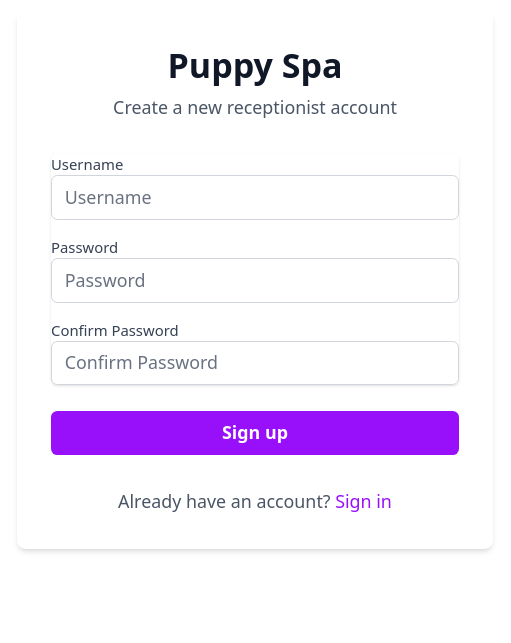
Test: SignupPage › should display error message on registration failure
The width and height of the screenshot is (511, 643).
Fill in the form
Type "existinguser" into the field labelled "Username" at (255, 198), box [51,175,459,220]
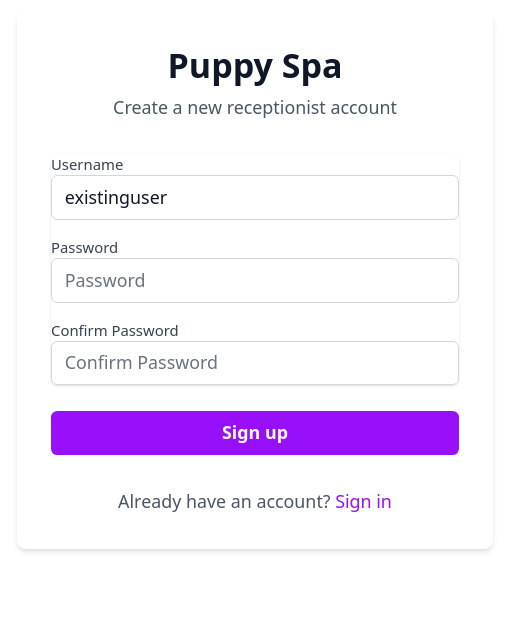
Type "password123" into the password field labelled "Password" at (255, 280), box [51,258,459,302]
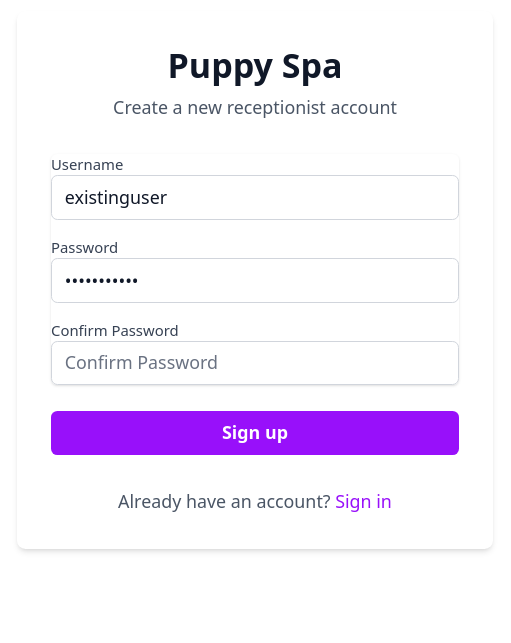
Type "password123" into the password field labelled "Confirm Password" at (255, 363), box [51,341,459,385]
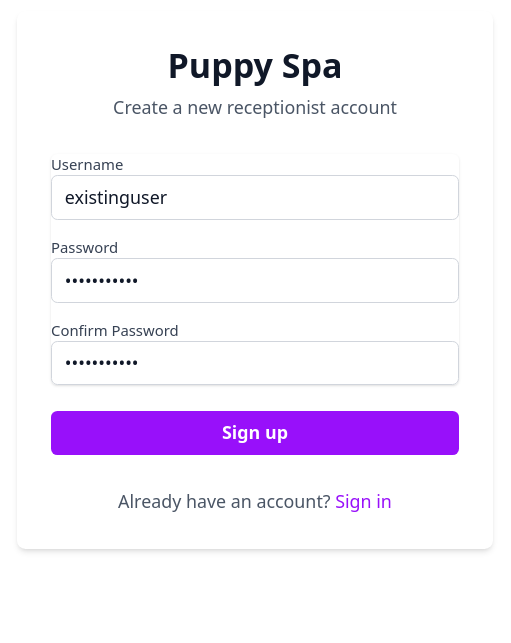
Submit the form
Click the button "Sign up" at (255, 433), box [51,411,459,455]
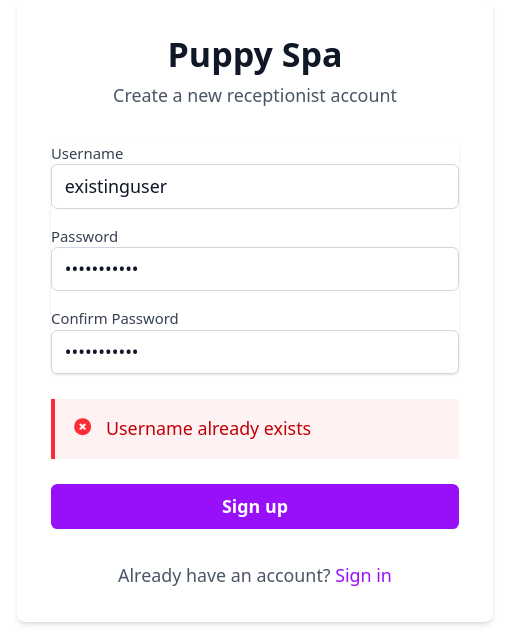
Check: the text "Username already exists" is shown, box [106,416,311,442]
